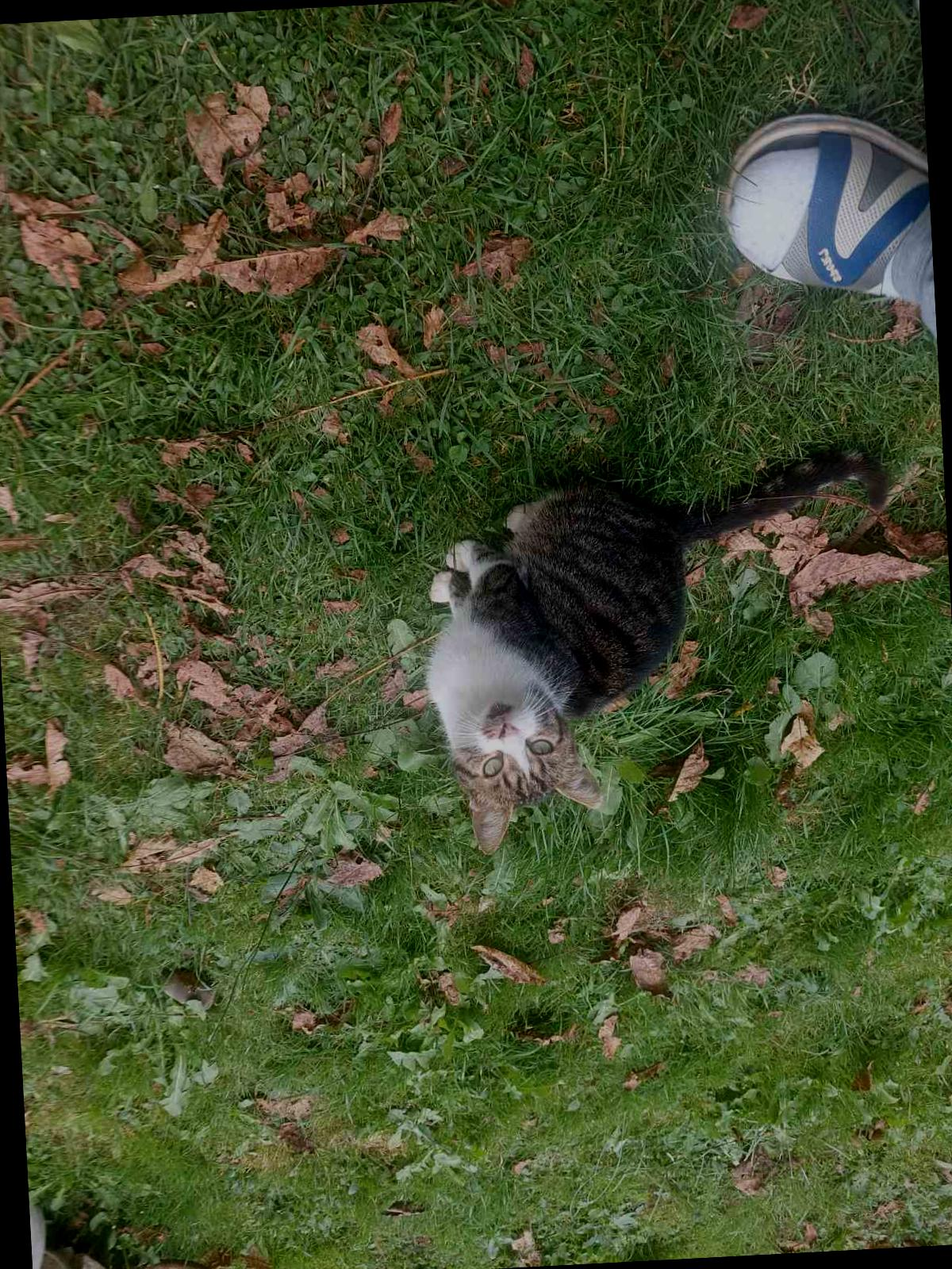macka: (416, 441, 908, 861)
